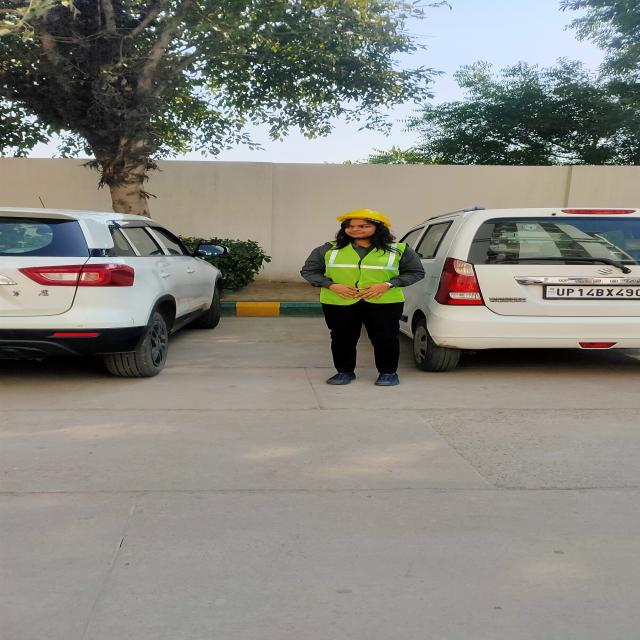safe: (301, 210, 425, 386)
